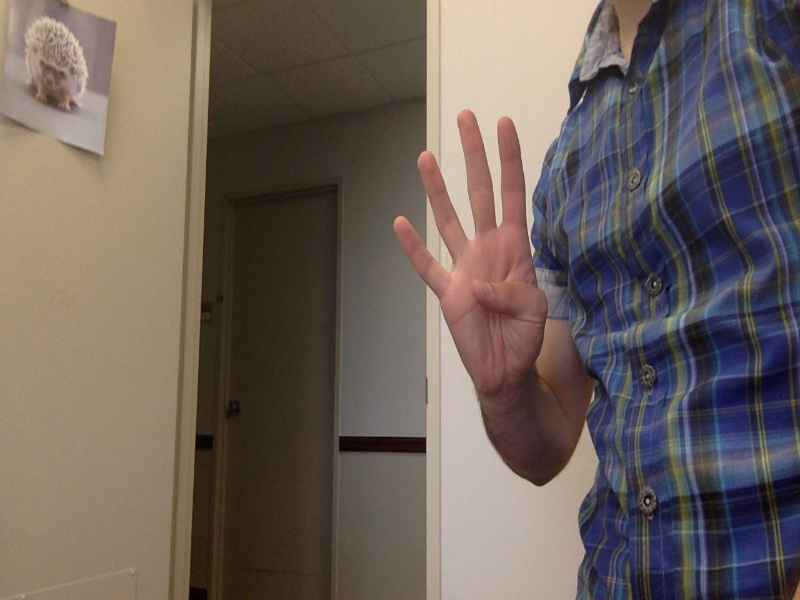4-hand: (392, 112, 549, 404)
